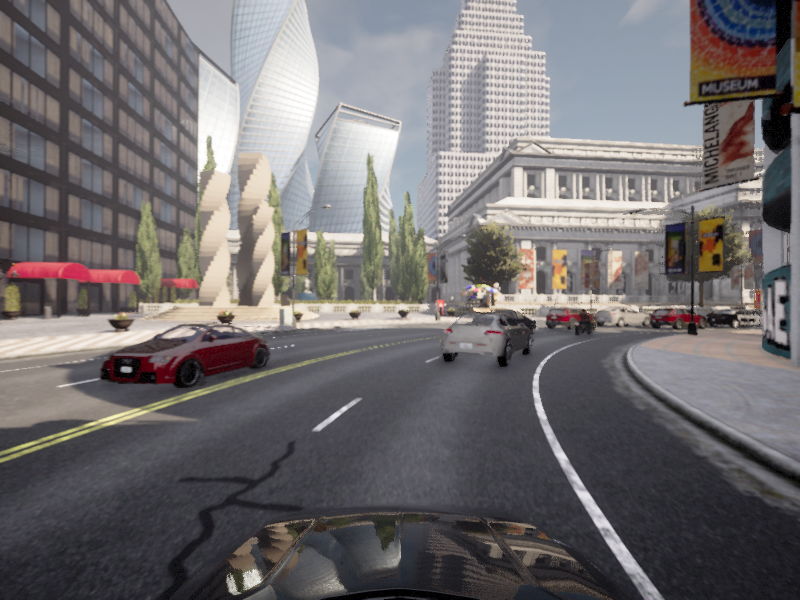vehicle: (87, 319, 277, 397), (432, 310, 535, 371), (471, 309, 540, 337), (643, 306, 711, 330), (701, 307, 777, 328), (539, 306, 601, 330), (589, 306, 653, 328), (644, 309, 712, 326), (569, 307, 599, 336)
